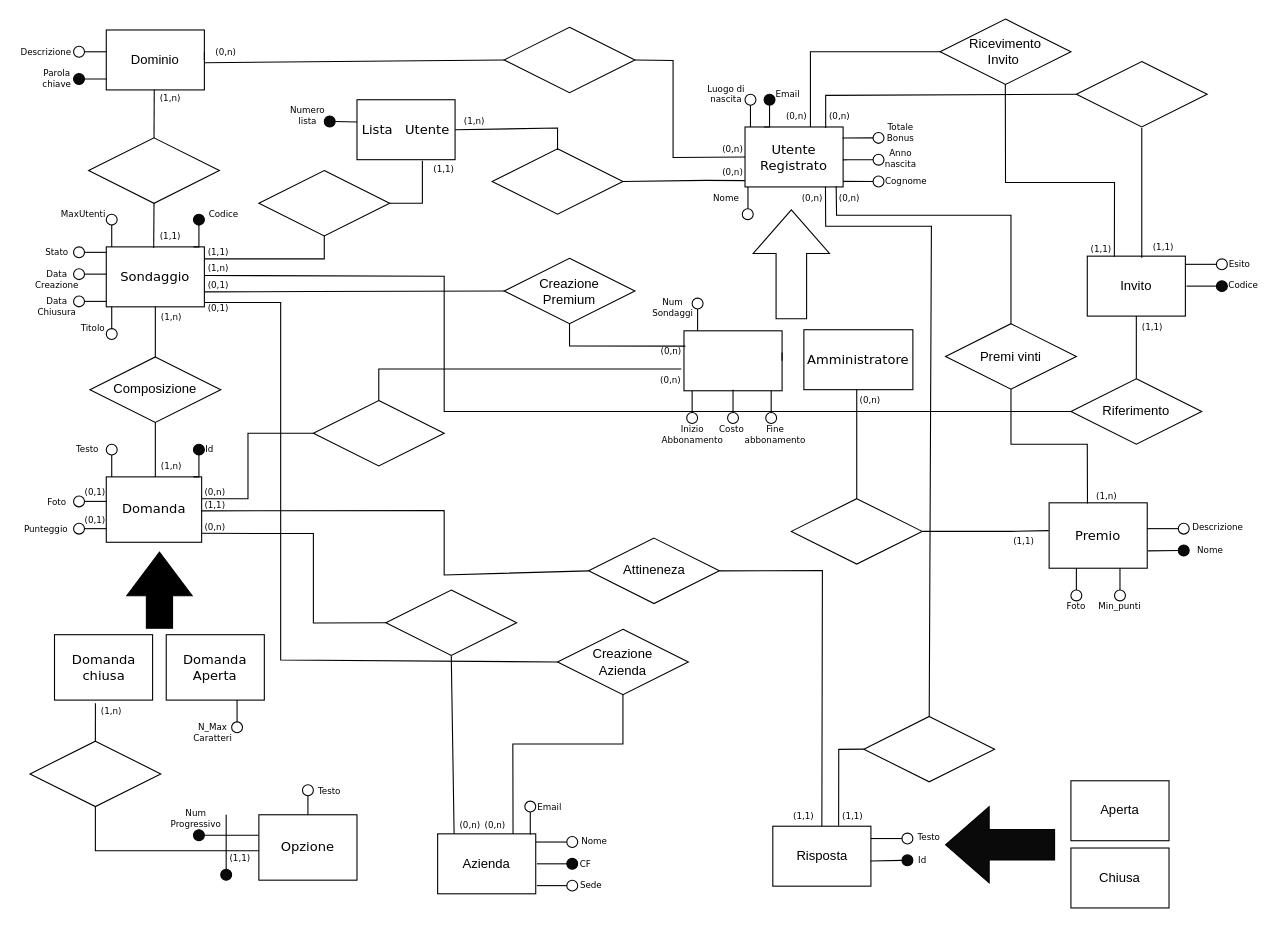
Some shapes in this 1283 by 928 pixel diagram are drawn without their labels. Each missing label, with the centre of its shape:
Aggiunge: (856,531)
Appertenenza: (153,170)
Associazione: (324,202)
Disposizione: (95,773)
Immissione: (929,748)
Inserimento Azienda: (451,622)
Inserimento Premium: (378,432)
Interessamento: (569,59)
Partecipazione: (557,181)
Premium: (732,360)
Realizzazione: (1141,93)
